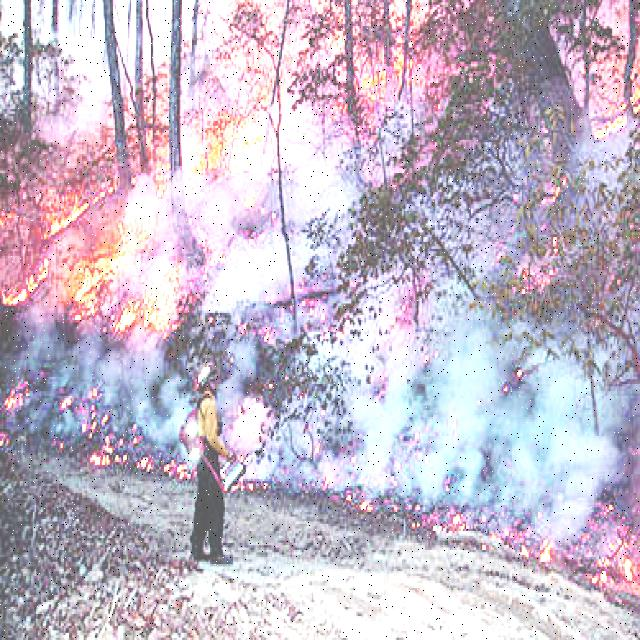api: (179, 131, 269, 181), (42, 190, 112, 240), (3, 259, 55, 311), (113, 219, 151, 284), (113, 300, 177, 335), (596, 522, 636, 578), (76, 267, 102, 308), (159, 264, 183, 294), (532, 543, 562, 562)
asap: (374, 296, 520, 442), (327, 303, 413, 423), (546, 380, 602, 505), (219, 235, 288, 305), (105, 365, 185, 425), (292, 154, 351, 224), (38, 331, 96, 379)
